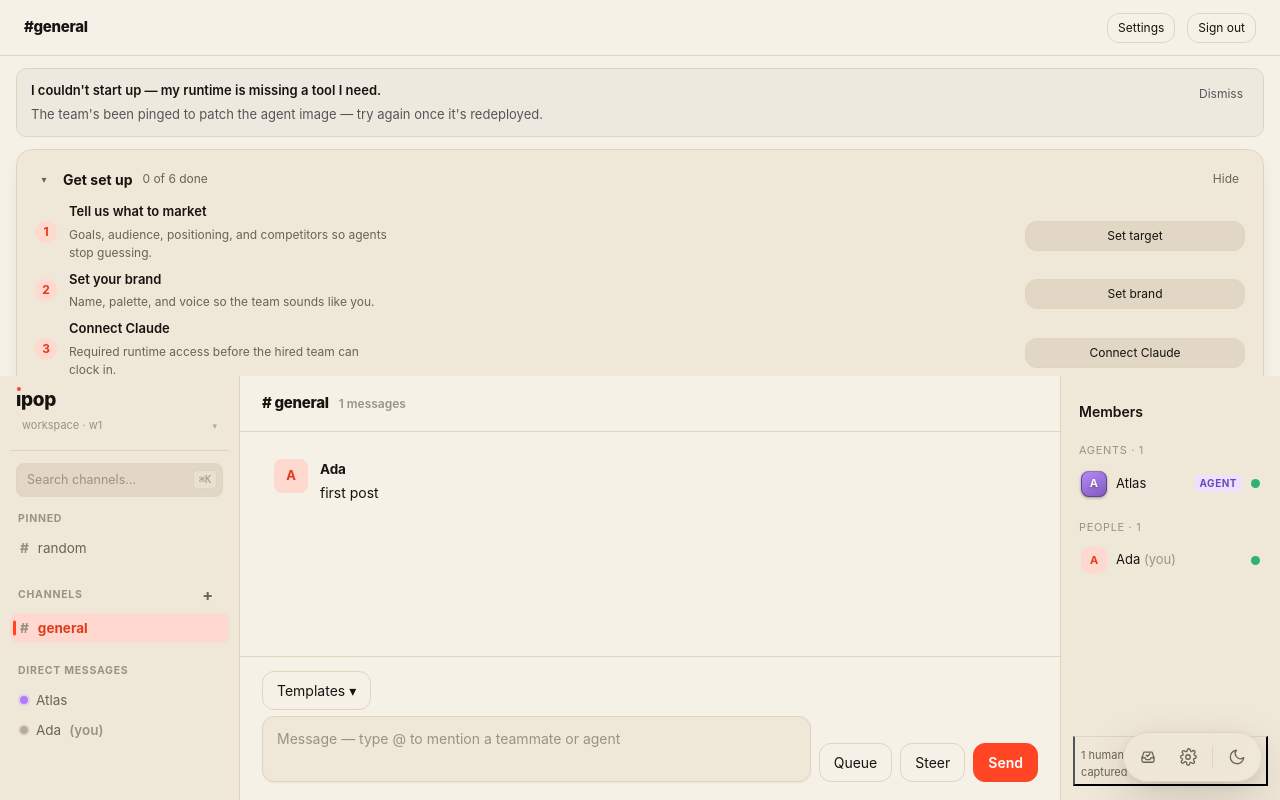
Test: ConsoleView stacked top banners stay above the fold (#503) › the runtime-error banner is dismissible; dismissing it keeps the checklist and the channel
Expected: the text "I couldn't start up — my runtime is missing a tool I need." is shown, [31,82,381,98]
Click the button with aria-label "Dismiss the startup error": (1221, 94) [1193,81,1249,107]
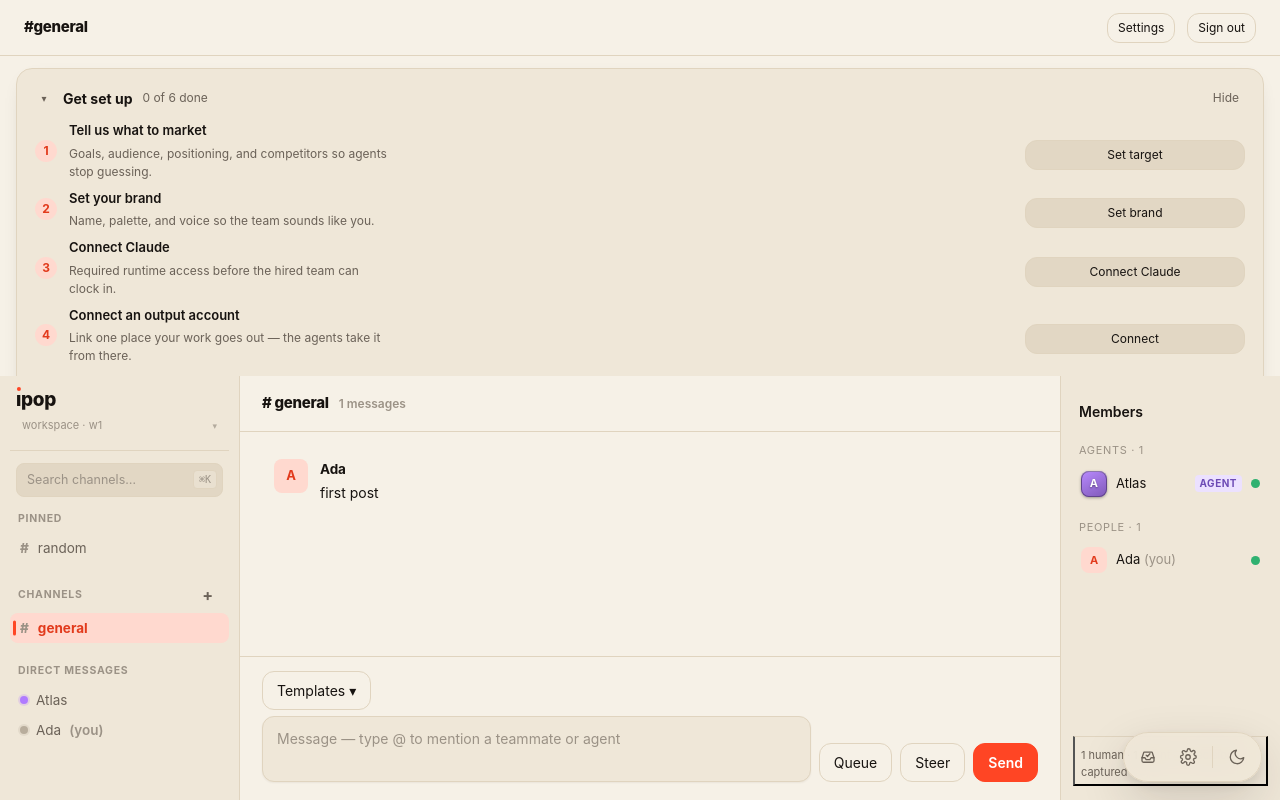
Expected: the element labelled "Get set up" is shown, [16,68,1264,376]
Result: the text "couldn't start up" is gone
Result: the message with class "consolediag--sessions_failing" is gone
